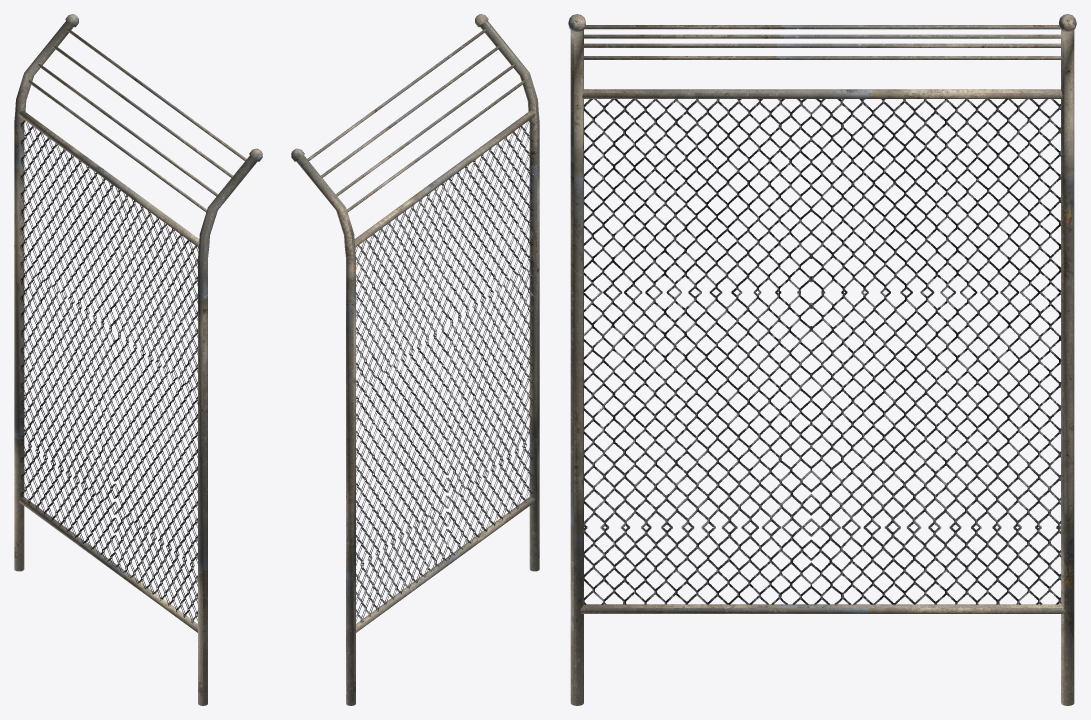
Rendered from Chain_Full.fbx.
The picture shows the model from 3 angles, left to right: view 1: azimuth 30°, elevation 25°; view 2: azimuth 150°, elevation 25°; view 3: azimuth 270°, elevation 25°; orthographic projection. The views are drawn at different scales.
Parts seen in each view (by area): view 1: Chain_Full; view 2: Chain_Full; view 3: Chain_Full.
Part boxes in pixels (x1,y1,x2,y2): Chain_Full: (14, 14, 262, 705); Chain_Full: (291, 14, 539, 705); Chain_Full: (568, 14, 1076, 705).
Bounding box in the file's own units: 100 × 819 × 522.
